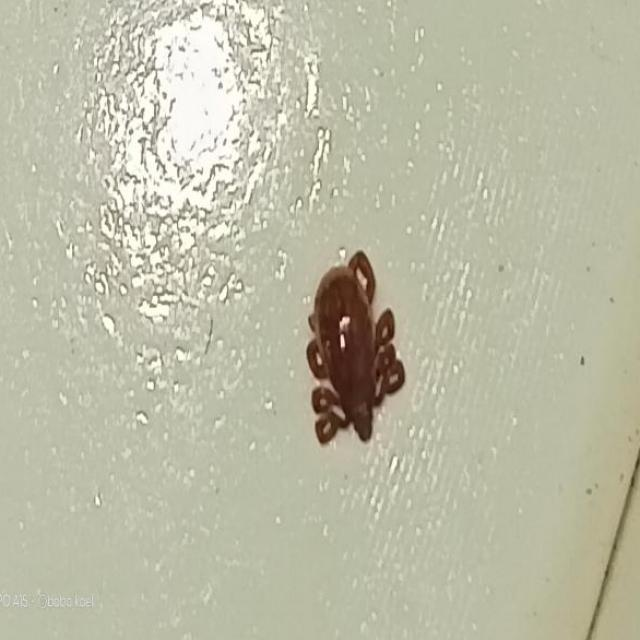Rhipicephalus Sanguineus-M: (304, 253, 408, 447)
